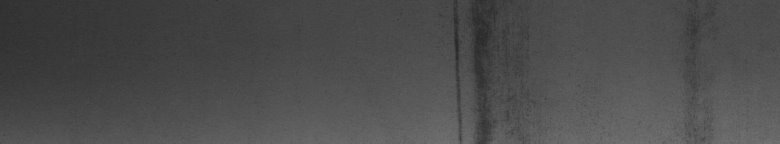ka: (448, 5, 524, 136)
